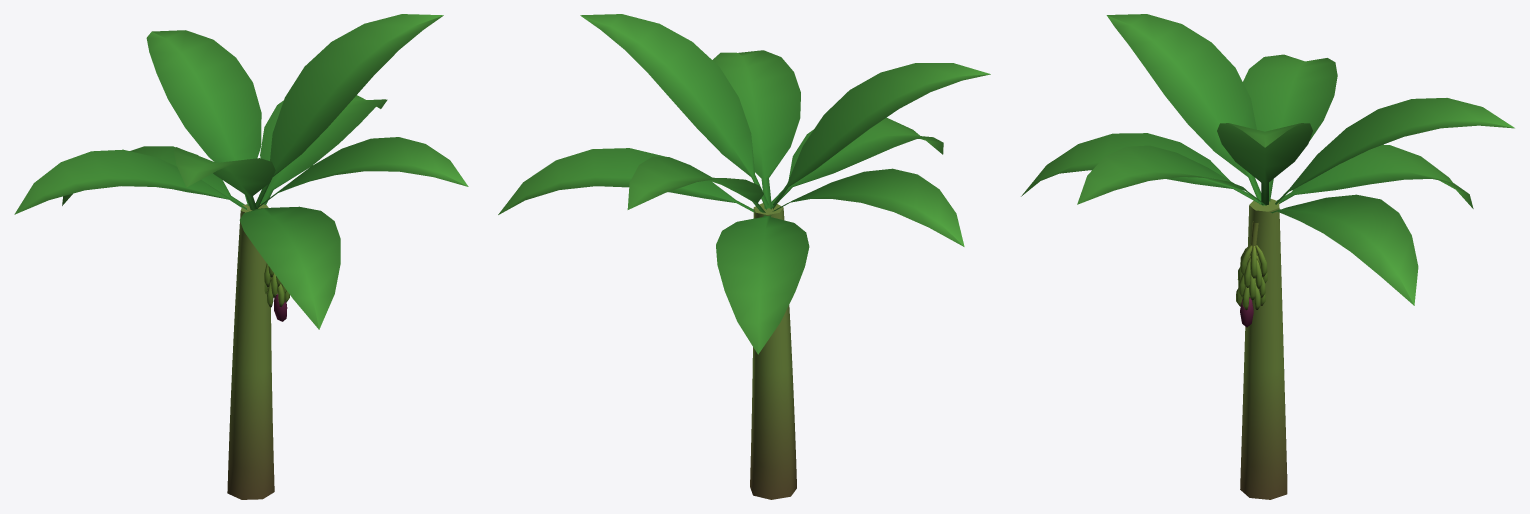
File: pisang_pohon_berbuah.glb
3 views of the same model, side by side, from view 1: azimuth 30°, elevation 25°; view 2: azimuth 150°, elevation 25°; view 3: azimuth 270°, elevation 25° (orthographic). The views are drawn at different scales.
Visible parts, largest first — view 1: pisang_pohon_berbuah; view 2: pisang_pohon_berbuah; view 3: pisang_pohon_berbuah.
Part boxes in pixels (x1,y1,x2,y2): pisang_pohon_berbuah: (14, 14, 468, 499); pisang_pohon_berbuah: (498, 14, 990, 499); pisang_pohon_berbuah: (1021, 14, 1514, 499).
Size of the model in its own units: 4.36 by 4.29 by 4.38.
